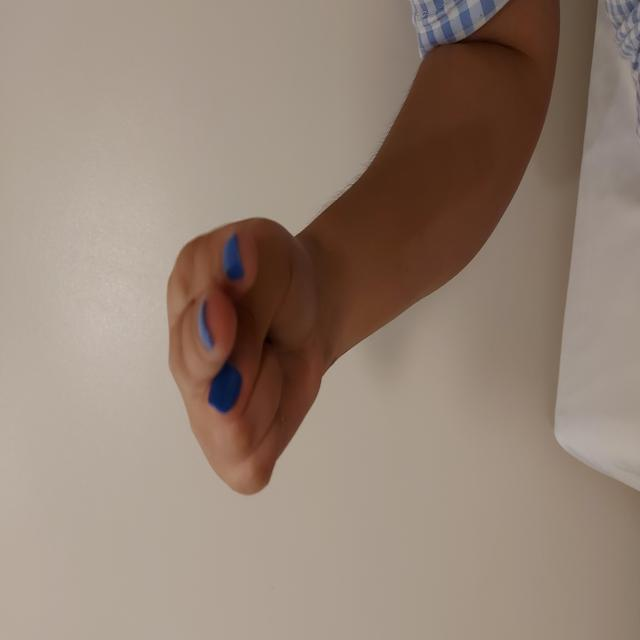N: (142, 165, 428, 326)
